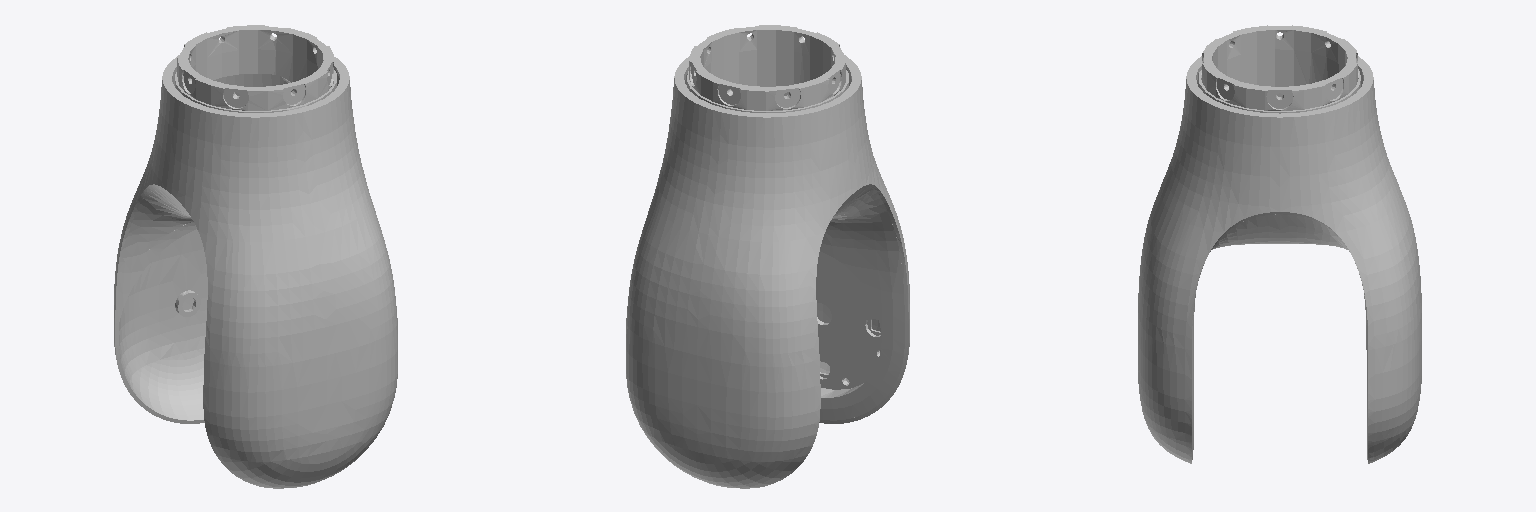
File: left_arm_link4.obj
The picture shows the model from 3 angles: view 1: azimuth 30°, elevation 25°; view 2: azimuth 150°, elevation 25°; view 3: azimuth 270°, elevation 25°; orthographic projection.
Parts seen in each view (by area): view 1: Link4; view 2: Link4; view 3: Link4.
Boxes of the visible parts, <box> form: Link4: <box>114,25,397,488</box>; Link4: <box>626,25,909,488</box>; Link4: <box>1138,25,1421,463</box>.
Bounding box in the file's own units: 0.0823 × 0.1607 × 0.1049.